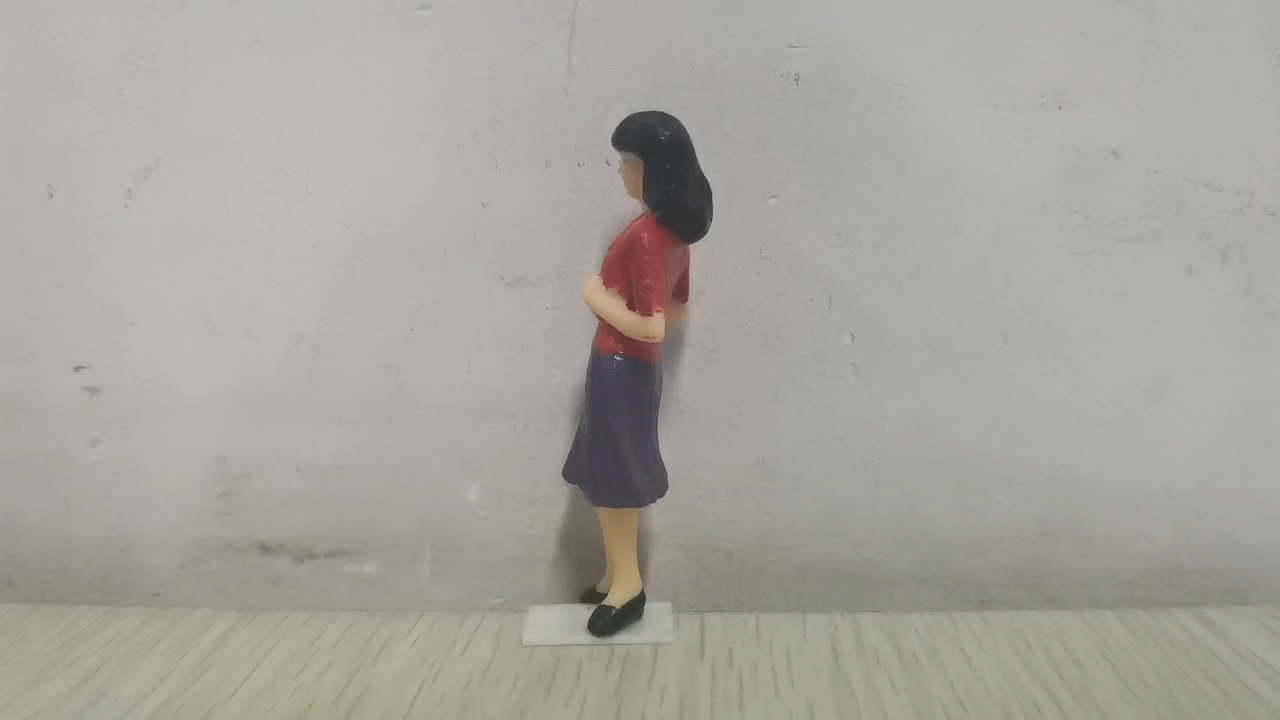person: (557, 108, 718, 637)
